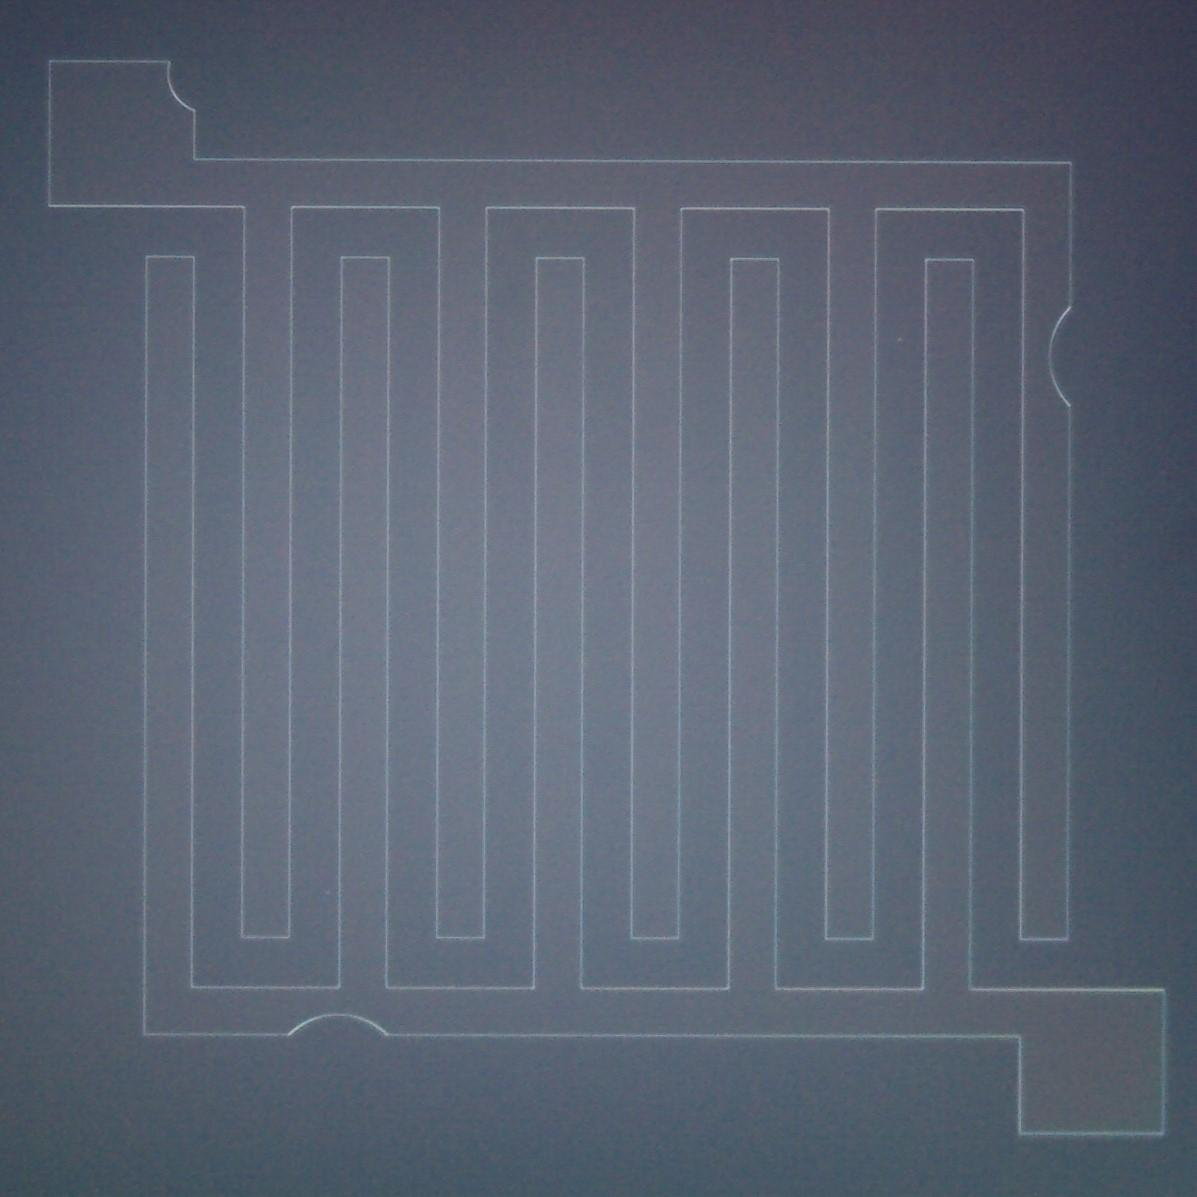cut: (271, 1005, 403, 1065), (1037, 292, 1097, 422), (152, 47, 214, 125)
s_point: (896, 335, 904, 342)
